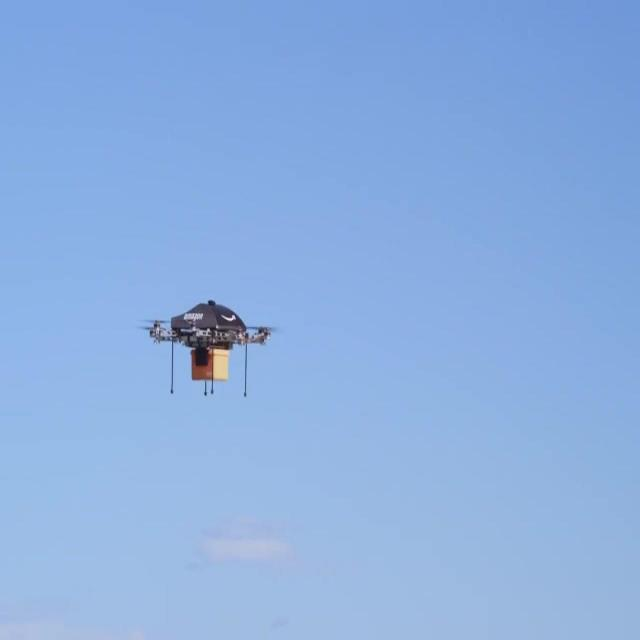UAV: (140, 300, 278, 398)
